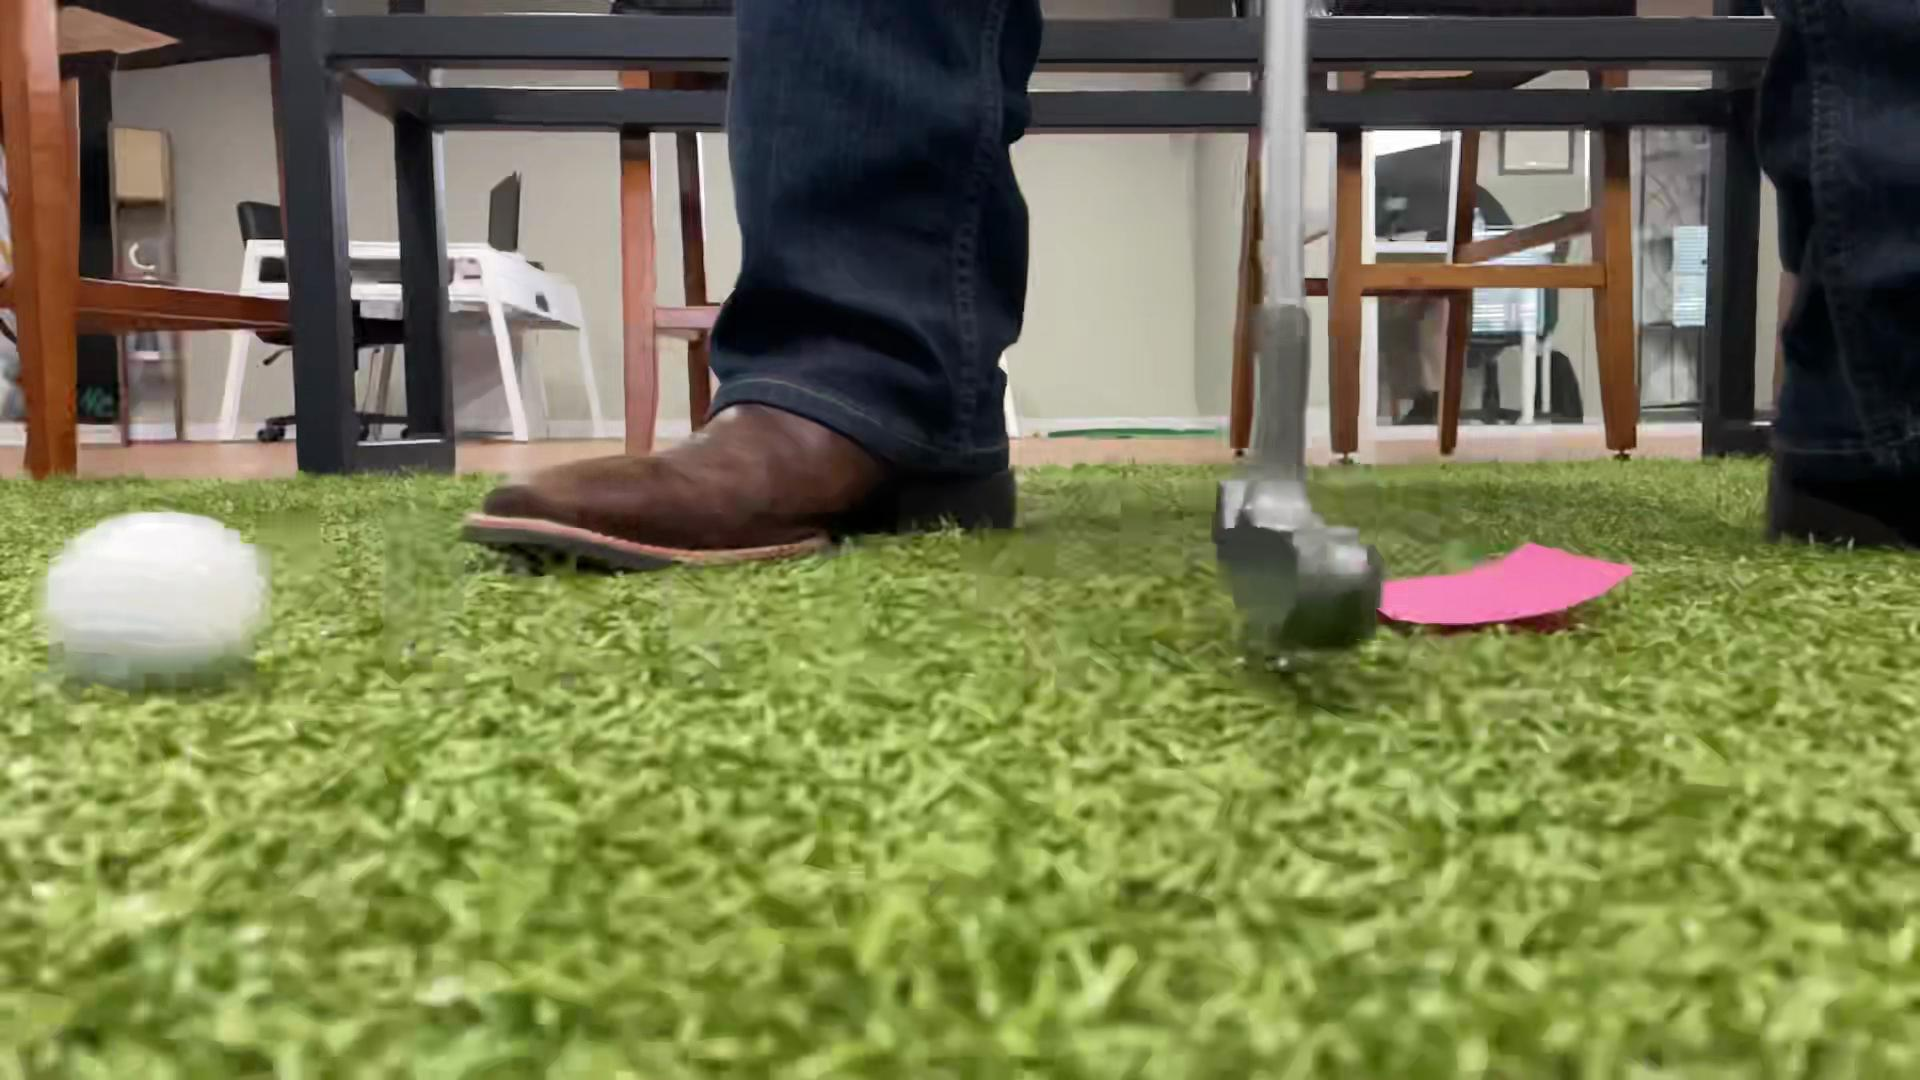golfball: (41, 511, 267, 690)
